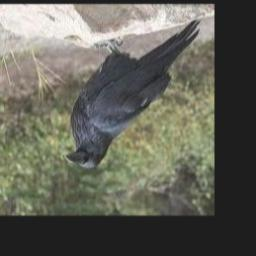Crow: (63, 20, 199, 169)
